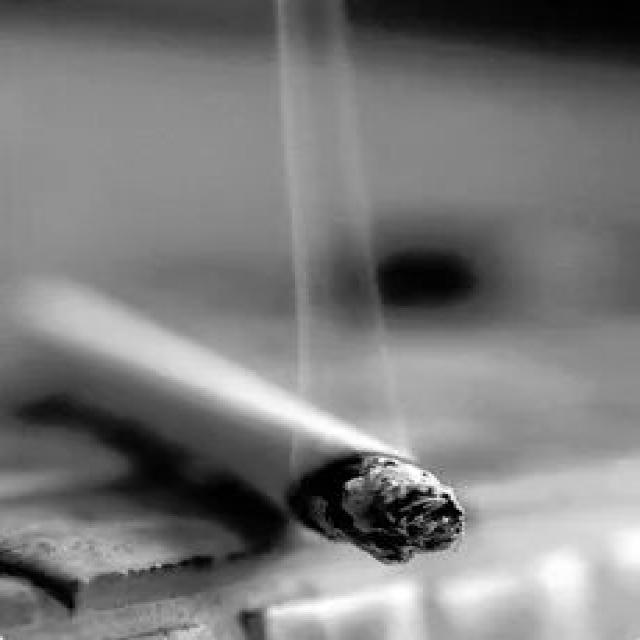cigarette: (19, 256, 470, 580)
